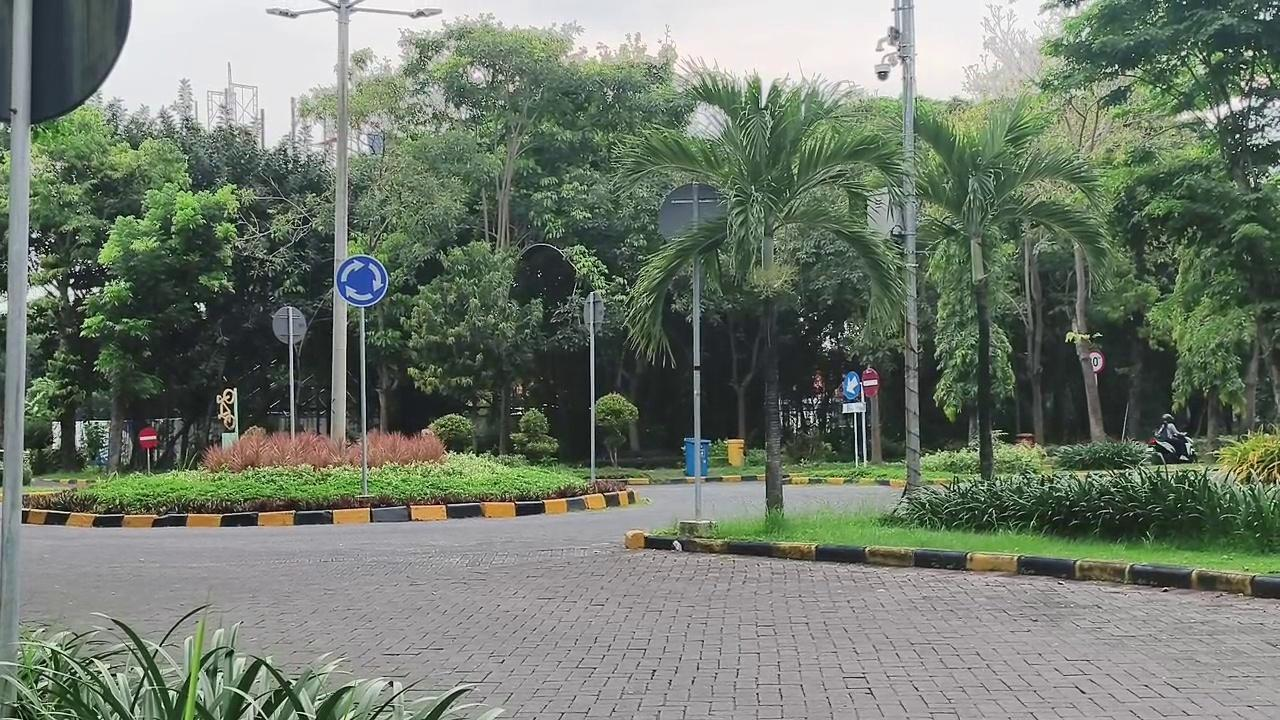Motor: (1148, 435, 1197, 463)
